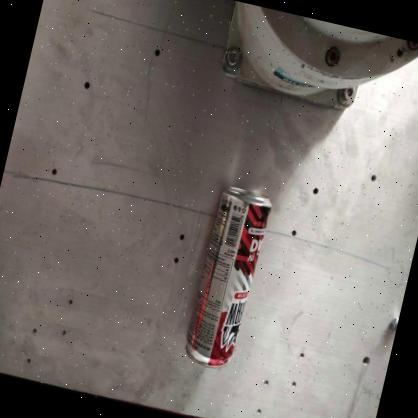can: (178, 179, 276, 375)
